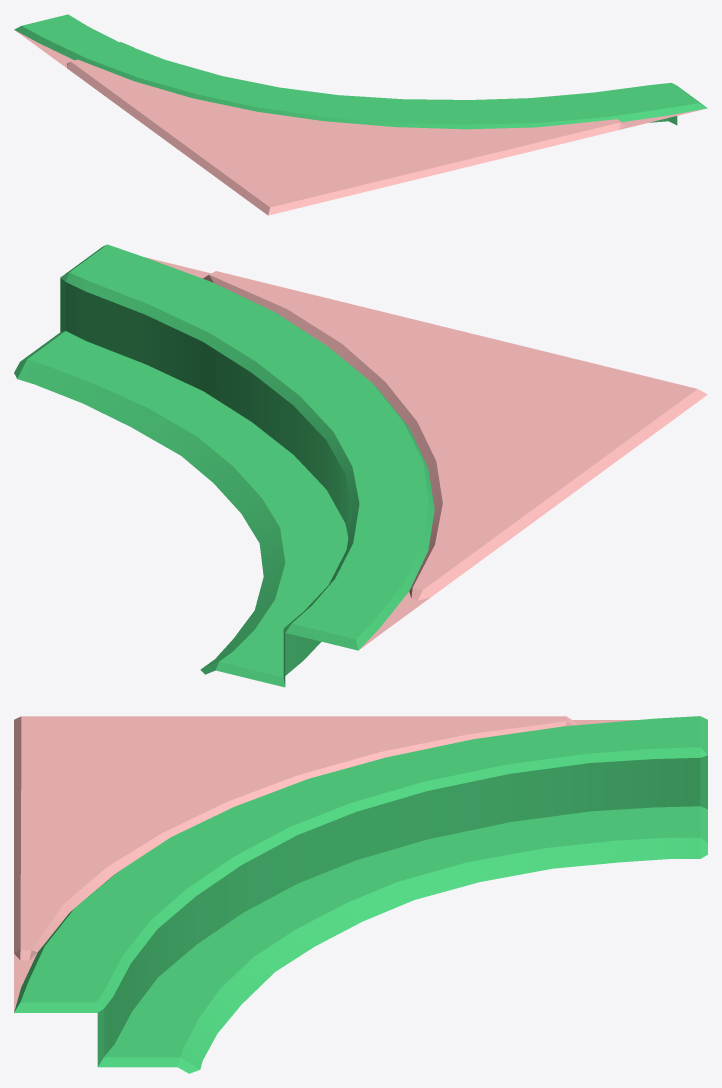
File: mesh_Paving_Inner90Single_v1.3.fbx
3 views of the same model, one above another, from view 1: azimuth 30°, elevation 25°; view 2: azimuth 150°, elevation 25°; view 3: azimuth 270°, elevation 25° (orthographic). The views are drawn at different scales.
Visible parts, largest first — view 1: mesh_Paving_Inner90Single; view 2: mesh_Paving_Inner90Single; view 3: mesh_Paving_Inner90Single.
Part boxes in pixels (x1=…): mesh_Paving_Inner90Single: x1=14, y1=14, x2=707, y2=215; mesh_Paving_Inner90Single: x1=14, y1=244, x2=707, y2=687; mesh_Paving_Inner90Single: x1=14, y1=716, x2=707, y2=1073.
Bounding box in the file's own units: 100 × 10.77 × 100.
